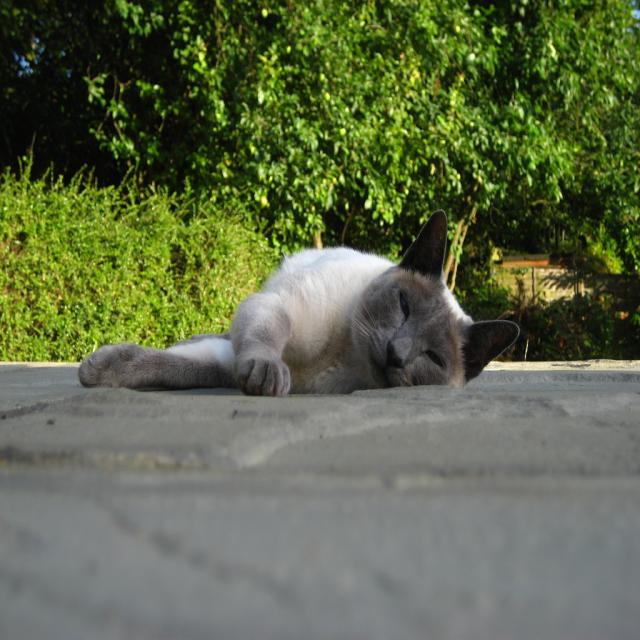cat: (78, 209, 521, 397)
